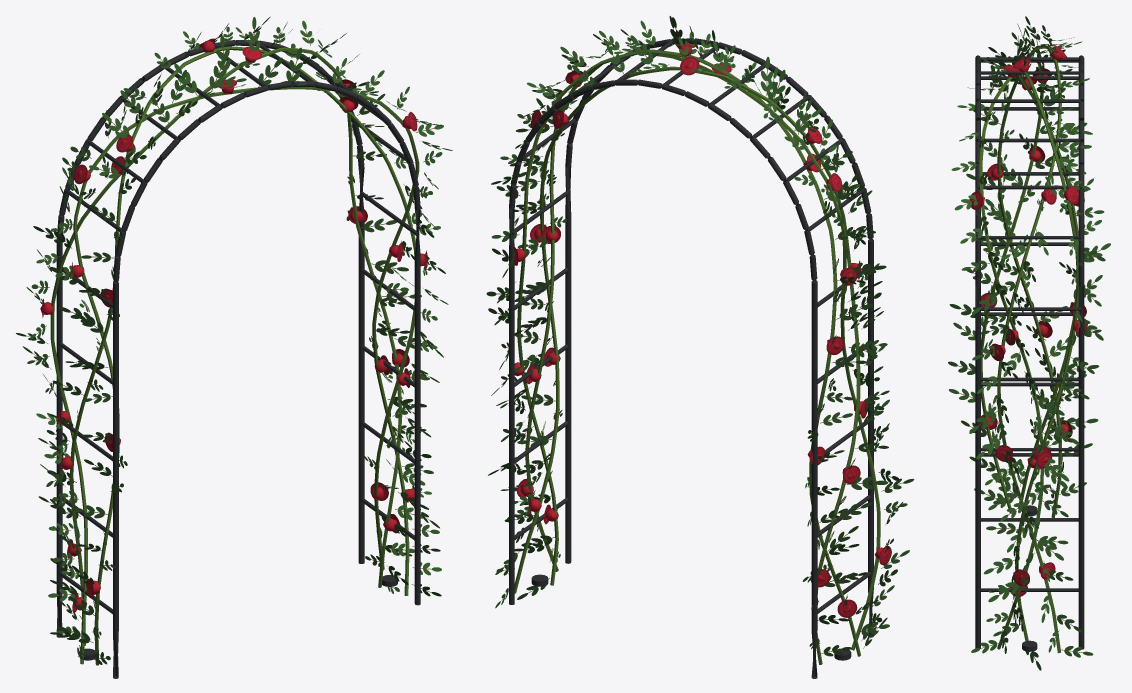
The model's file is climbing-rose-arch.glb.
The picture shows the model from 3 angles, left to right: view 1: azimuth 30°, elevation 25°; view 2: azimuth 150°, elevation 25°; view 3: azimuth 270°, elevation 25°; orthographic projection. The views are drawn at different scales.
Visible parts, largest first — view 1: Climbing_Rose_Arch; view 2: Climbing_Rose_Arch; view 3: Climbing_Rose_Arch.
Boxes of the visible parts, <box> form: Climbing_Rose_Arch: <box>16,16,452,678</box>; Climbing_Rose_Arch: <box>486,16,914,678</box>; Climbing_Rose_Arch: <box>948,16,1110,670</box>.
Size of the model in its own units: 1.63 by 2.46 by 0.6734.
Materials: 5 (2 with a texture image).
